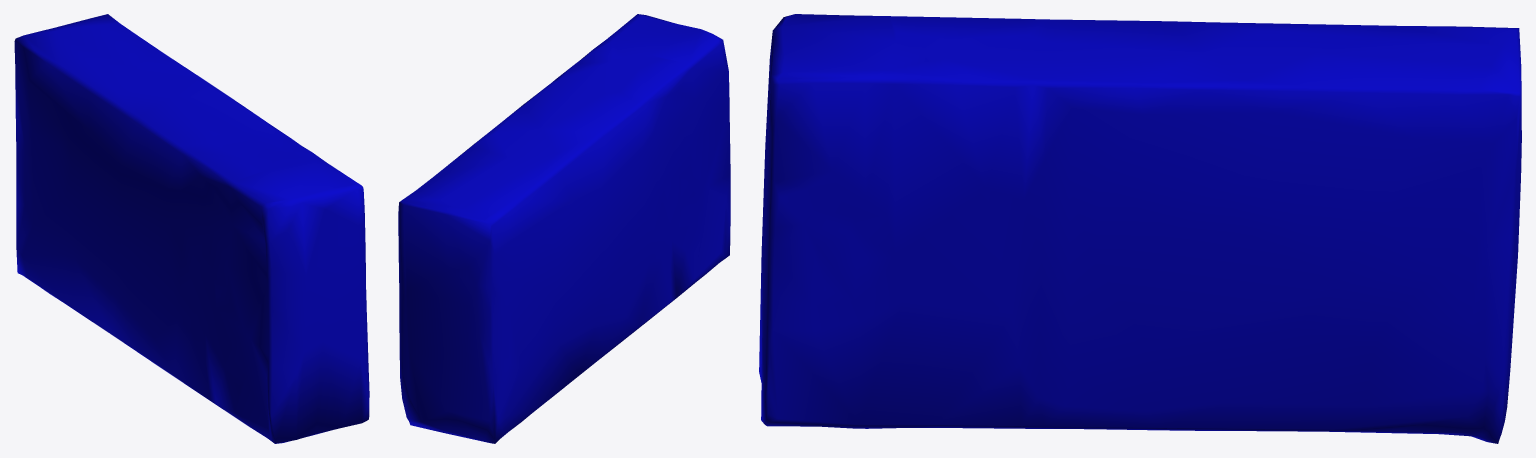
The model's file is 08194_sparse_textured_ok.obj.
3 views of the same model, side by side, from view 1: azimuth 30°, elevation 25°; view 2: azimuth 150°, elevation 25°; view 3: azimuth 270°, elevation 25° (orthographic). The views are drawn at different scales.
Parts seen in each view (by area): view 1: textured_ok; view 2: textured_ok; view 3: textured_ok.
Boxes of the visible parts, x1=… form: textured_ok: x1=14, y1=14, x2=369, y2=443; textured_ok: x1=398, y1=14, x2=730, y2=443; textured_ok: x1=759, y1=14, x2=1521, y2=443.
Bounding box in the file's own units: 0.0452 × 0.0962 × 0.1775.
